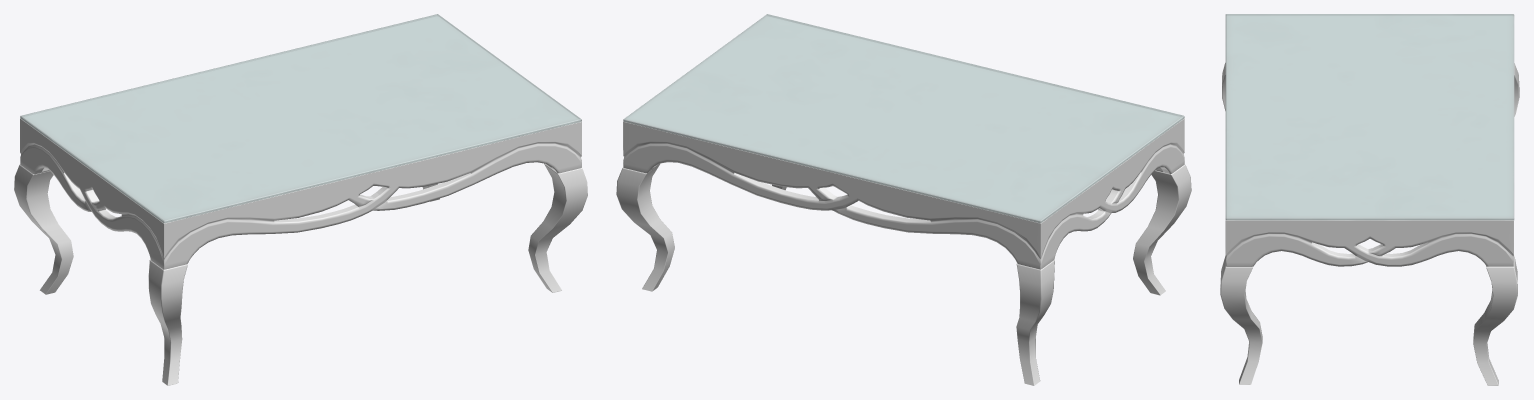
File: table.glb
3 renders of one model, left to right at view 1: azimuth 30°, elevation 25°; view 2: azimuth 150°, elevation 25°; view 3: azimuth 270°, elevation 25°, orthographic.
Visible parts, largest first — view 1: Top_001, Top_Glass_001, Cabriole_Leg_004, Cabriole_Leg_001, Cabriole_Leg_003; view 2: Top_001, Top_Glass_001, Cabriole_Leg_003, Cabriole_Leg_002, Cabriole_Leg_001; view 3: Top_001, Top_Glass_001, Cabriole_Leg_002, Cabriole_Leg_004.
Boxes of the visible parts, left/top/right/bottom form: Top_001: left=20, top=18, right=581, bottom=269; Top_Glass_001: left=20, top=14, right=581, bottom=223; Cabriole_Leg_004: left=528, top=163, right=587, bottom=292; Cabriole_Leg_001: left=14, top=164, right=73, bottom=294; Cabriole_Leg_003: left=148, top=259, right=187, bottom=385; Top_001: left=623, top=19, right=1184, bottom=269; Top_Glass_001: left=623, top=14, right=1184, bottom=223; Cabriole_Leg_003: left=1133, top=164, right=1191, bottom=295; Cabriole_Leg_002: left=616, top=164, right=674, bottom=291; Cabriole_Leg_001: left=1016, top=260, right=1054, bottom=385; Top_001: left=1225, top=17, right=1513, bottom=266; Top_Glass_001: left=1225, top=14, right=1514, bottom=220; Cabriole_Leg_002: left=1473, top=255, right=1517, bottom=385; Cabriole_Leg_004: left=1220, top=256, right=1262, bottom=384.
Bounding box in the file's own units: 108 × 41.89 × 65.27.
Materials: 1 (1 with a texture image).
